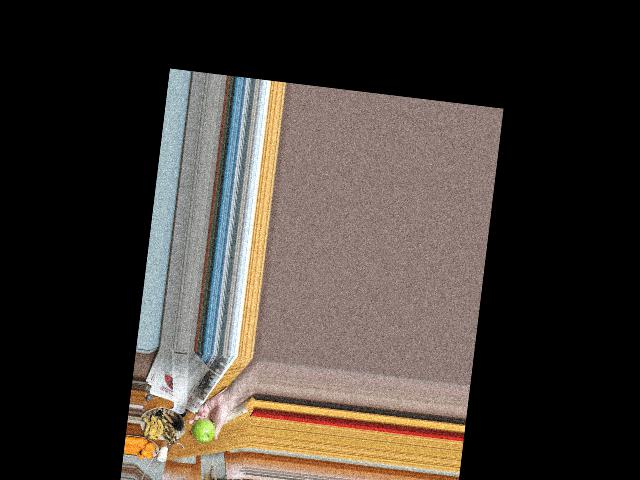apple: (189, 415, 219, 445)
